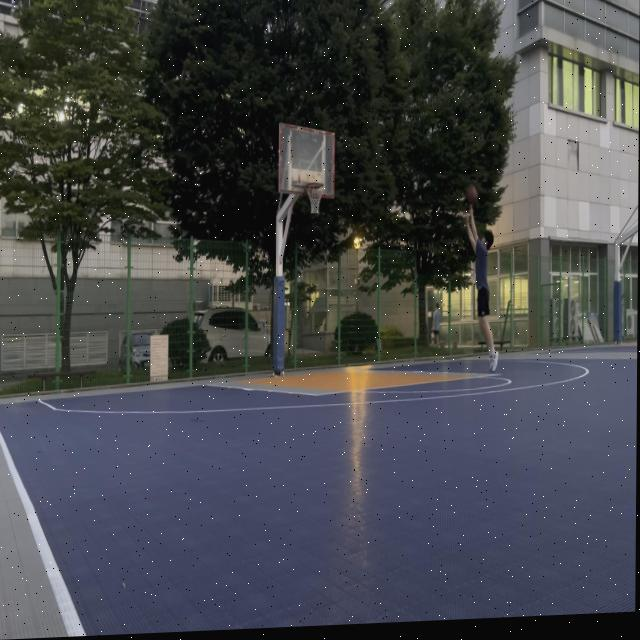basketball: (467, 183, 478, 203)
hoop: (306, 182, 324, 215)
